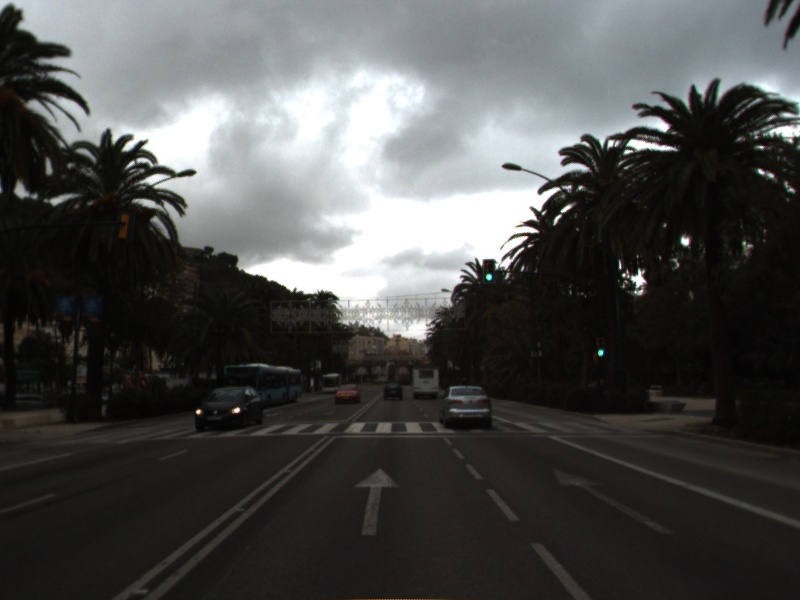STRAIGHT: (551, 466, 678, 537), (351, 466, 402, 537)
